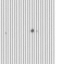dust: (30, 28, 34, 33), (4, 31, 7, 34)
